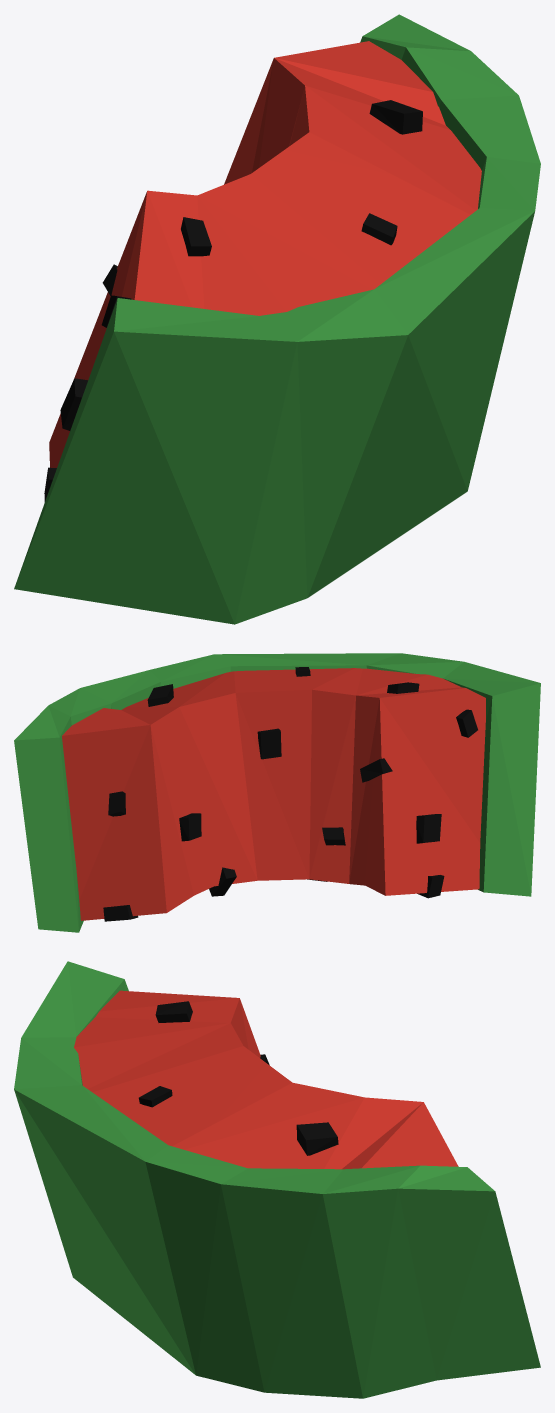
The model's file is Watermelon.gltf.
3 views of the same model, one above another, from view 1: azimuth 30°, elevation 25°; view 2: azimuth 150°, elevation 25°; view 3: azimuth 270°, elevation 25° (orthographic). The views are drawn at different scales.
Visible parts, largest first — view 1: node_MeshObject-1684563648-PolyPaper10; view 2: node_MeshObject-1684563648-PolyPaper10; view 3: node_MeshObject-1684563648-PolyPaper10.
Boxes of the visible parts, x1,y1,x2,y2 form: node_MeshObject-1684563648-PolyPaper10: (14, 14, 540, 624); node_MeshObject-1684563648-PolyPaper10: (14, 653, 540, 932); node_MeshObject-1684563648-PolyPaper10: (14, 961, 540, 1398).
Bounding box in the file's own units: 0.2982 × 0.1632 × 0.289.
